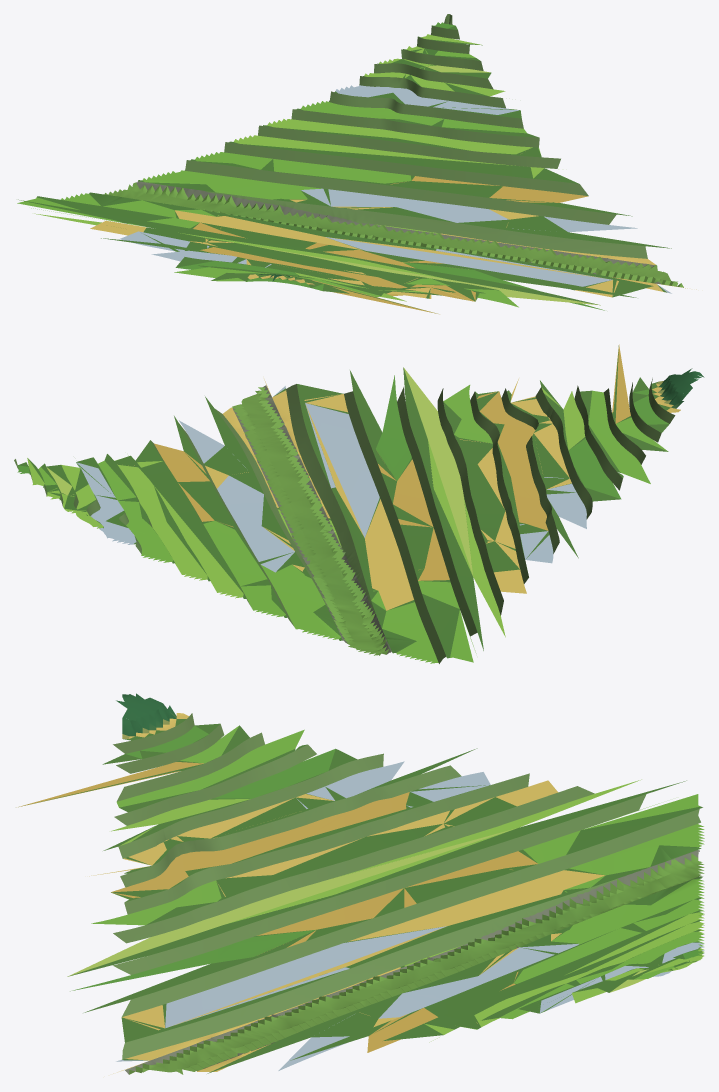
Rendered from payo_land_xm2_y5.glb.
3 renders of one model, top to bottom at view 1: azimuth 30°, elevation 25°; view 2: azimuth 150°, elevation 25°; view 3: azimuth 270°, elevation 25°, orthographic. The views are drawn at different scales.
Parts seen in each view (by area): view 1: payo_land_xm2_y5; view 2: payo_land_xm2_y5; view 3: payo_land_xm2_y5.
Part boxes in pixels (box(x1,y1,x2,y2)): payo_land_xm2_y5: box(17, 14, 696, 314); payo_land_xm2_y5: box(14, 344, 704, 663); payo_land_xm2_y5: box(16, 693, 704, 1074).
Size of the model in its own units: 289 by 67.53 by 306.
